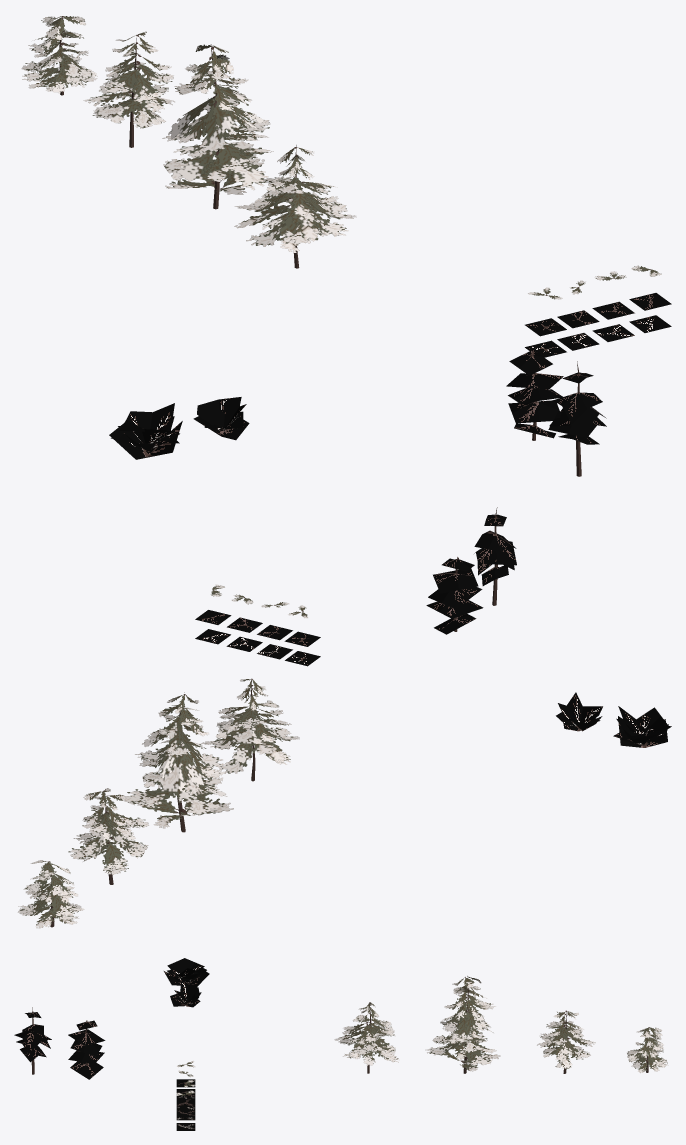
Rendered from VOLIAGE.fbx.
3 views of the same model, one above another, from view 1: azimuth 30°, elevation 25°; view 2: azimuth 150°, elevation 25°; view 3: azimuth 270°, elevation 25° (orthographic). The views are drawn at different scales.
Visible parts, largest first — view 1: Pine2, Pine1, Pine3, leaves, Pine4, DeadPine2, shrub2, DeadPine1, shrub1; view 2: Pine2, Pine1, Pine3, leaves, DeadPine2, Pine4, DeadPine1, shrub2, shrub1; view 3: Pine2, Pine1, Pine3, DeadPine2, Pine4, leaves, DeadPine1, shrub2, shrub1.
Part boxes in pixels (<box>): Pine2: <box>162,44,273,209</box>; Pine1: <box>234,145,356,268</box>; Pine3: <box>83,31,174,147</box>; leaves: <box>525,265,671,357</box>; Pine4: <box>21,16,97,95</box>; DeadPine2: <box>506,350,563,440</box>; shrub2: <box>109,403,182,459</box>; DeadPine1: <box>548,361,606,476</box>; shrub1: <box>193,397,249,440</box>; Pine2: <box>123,692,233,832</box>; Pine1: <box>200,678,299,781</box>; Pine3: <box>68,788,149,884</box>; leaves: <box>195,584,320,666</box>; DeadPine2: <box>426,557,483,634</box>; Pine4: <box>17,860,84,928</box>; DeadPine1: <box>474,507,516,605</box>; shrub2: <box>613,706,671,747</box>; shrub1: <box>556,692,602,731</box>; Pine2: <box>425,976,500,1073</box>; Pine1: <box>334,1002,399,1073</box>; Pine3: <box>537,1010,595,1073</box>; DeadPine2: <box>68,1020,105,1079</box>; Pine4: <box>627,1027,668,1073</box>; leaves: <box>176,1061,195,1130</box>; DeadPine1: <box>14,1007,51,1074</box>; shrub2: <box>164,958,209,986</box>; shrub1: <box>170,981,201,1007</box>.
Size of the model in its own units: 1990 by 577 by 3466.
